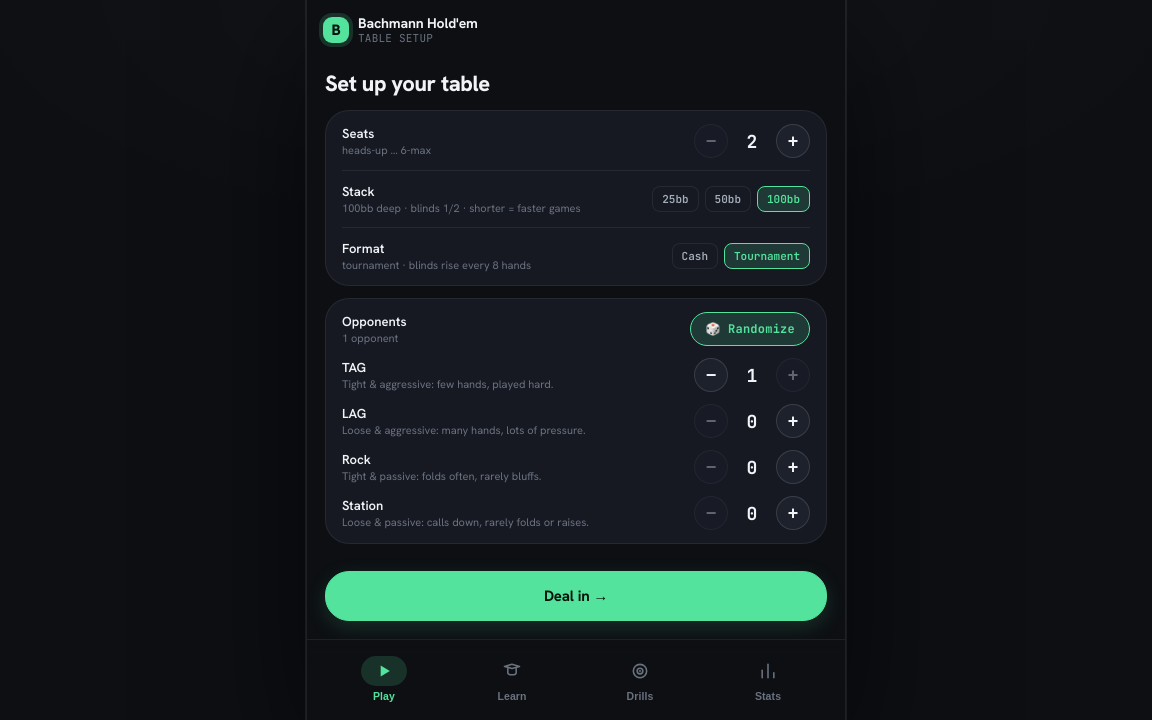
App — top-level navigation › opens the starting-hand chart from the Learn section (ticket 0050)
The image size is (1152, 720).
Step 1. Click the button with test id "tab-learn" → x=512, y=678, box left=449, top=648, right=575, bottom=708
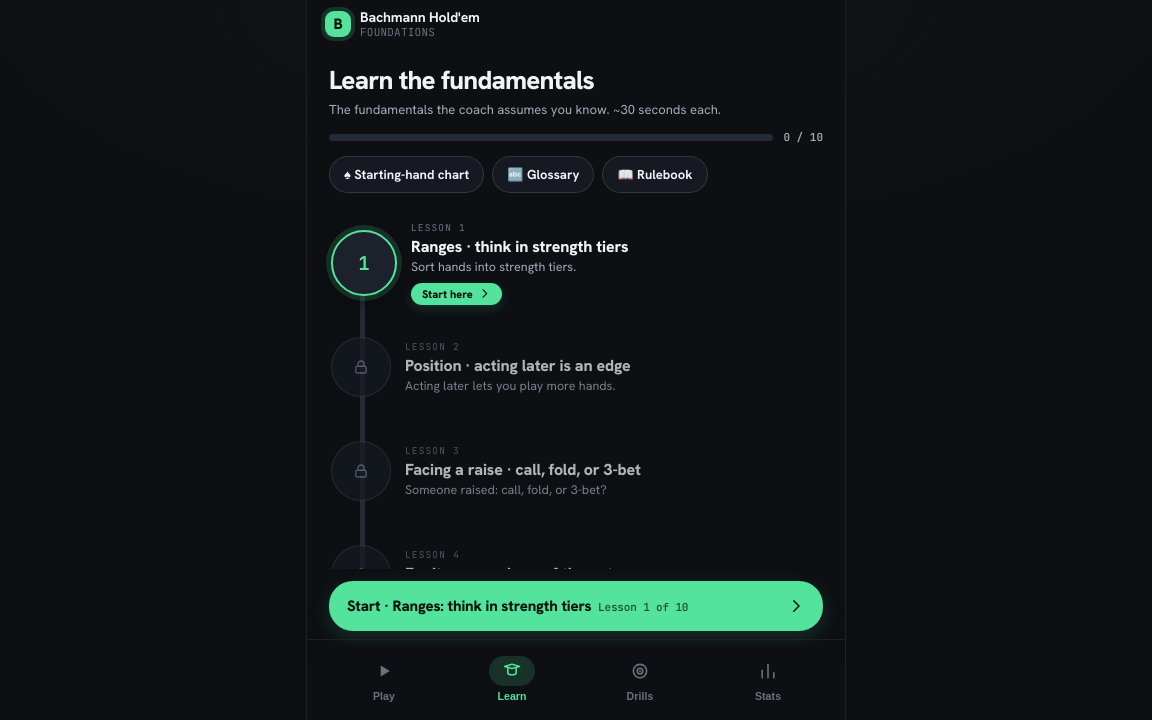
Step 2. Click the button with test id "open-chart" → x=407, y=174, box left=329, top=156, right=484, bottom=193
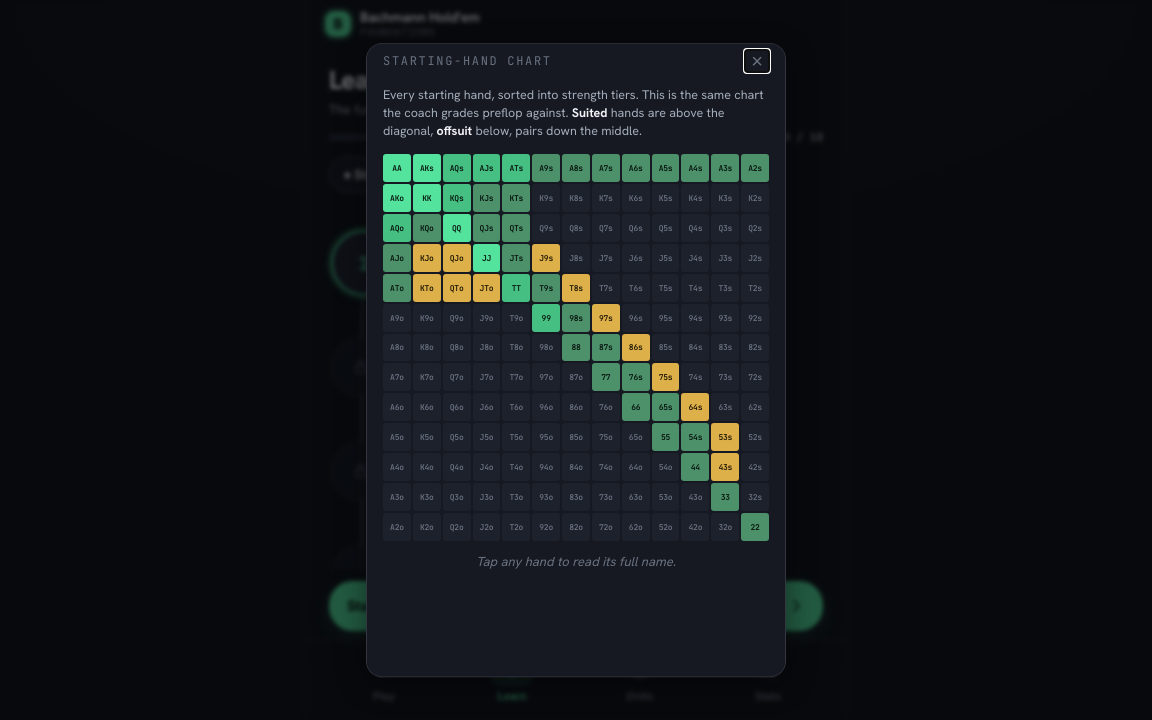
Step 3. Click the button with test id "chart-close" → x=757, y=61, box left=745, top=50, right=769, bottom=72
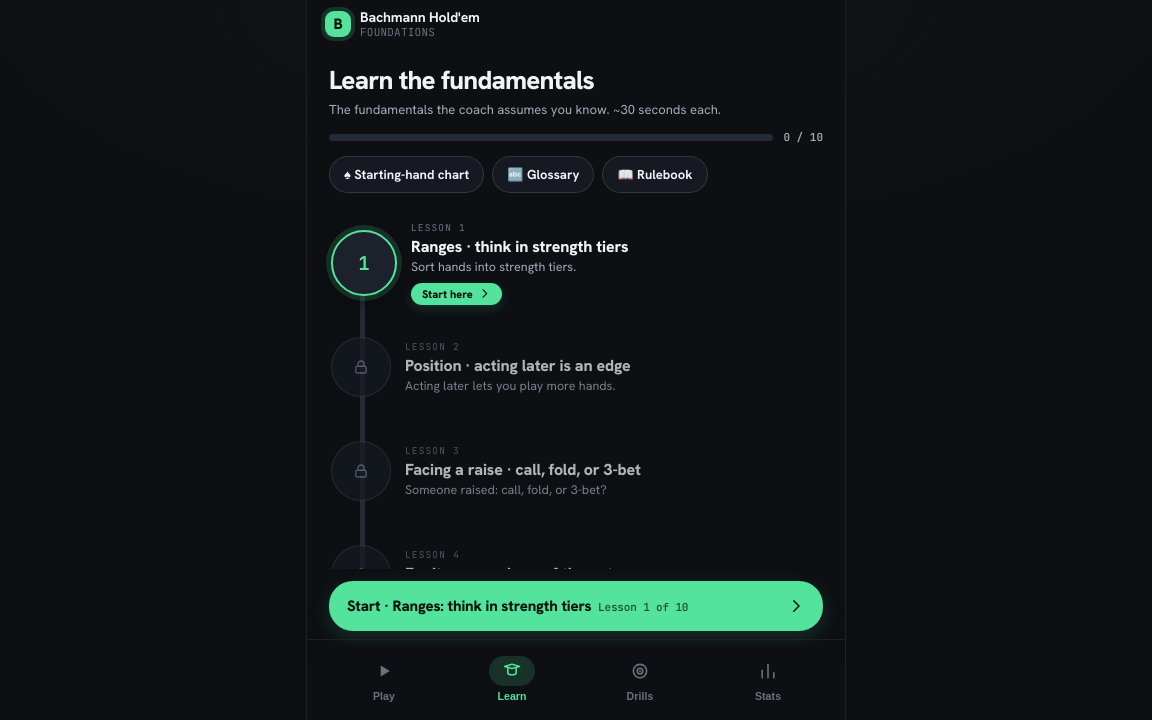
Check: the dialog with test id "chart-modal" is gone
